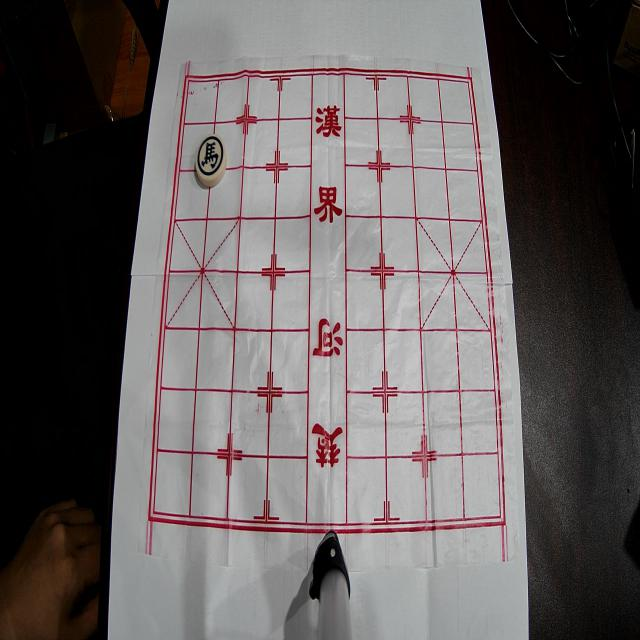black-horse: (196, 134, 227, 186)
